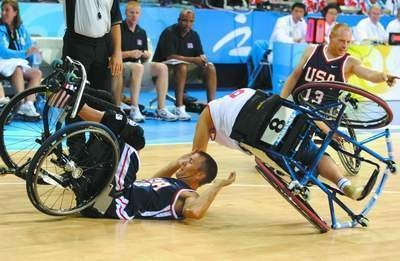falling: (33, 71, 237, 224)
